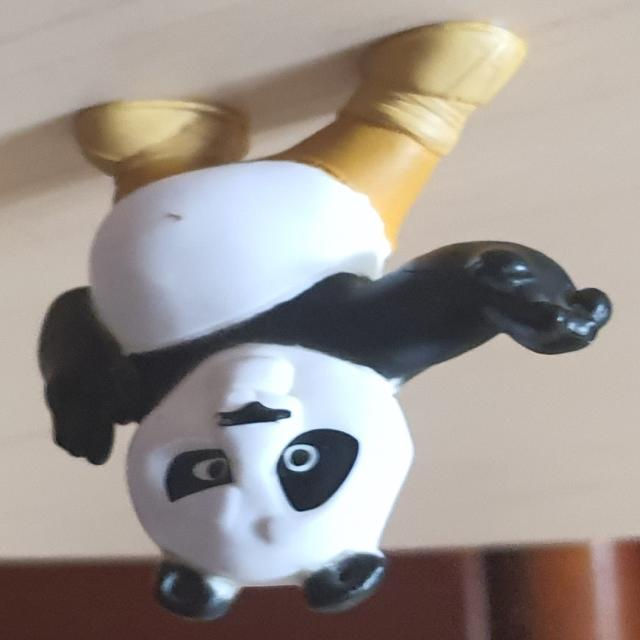Panda: (36, 22, 614, 622)
